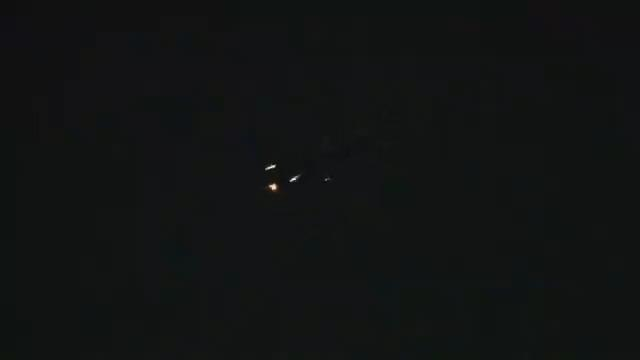Plane: (215, 150, 375, 204)
